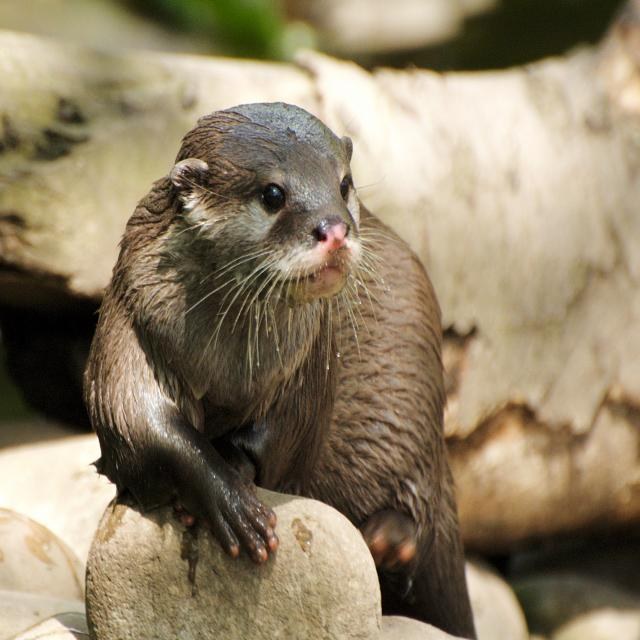otter: (91, 104, 441, 566)
